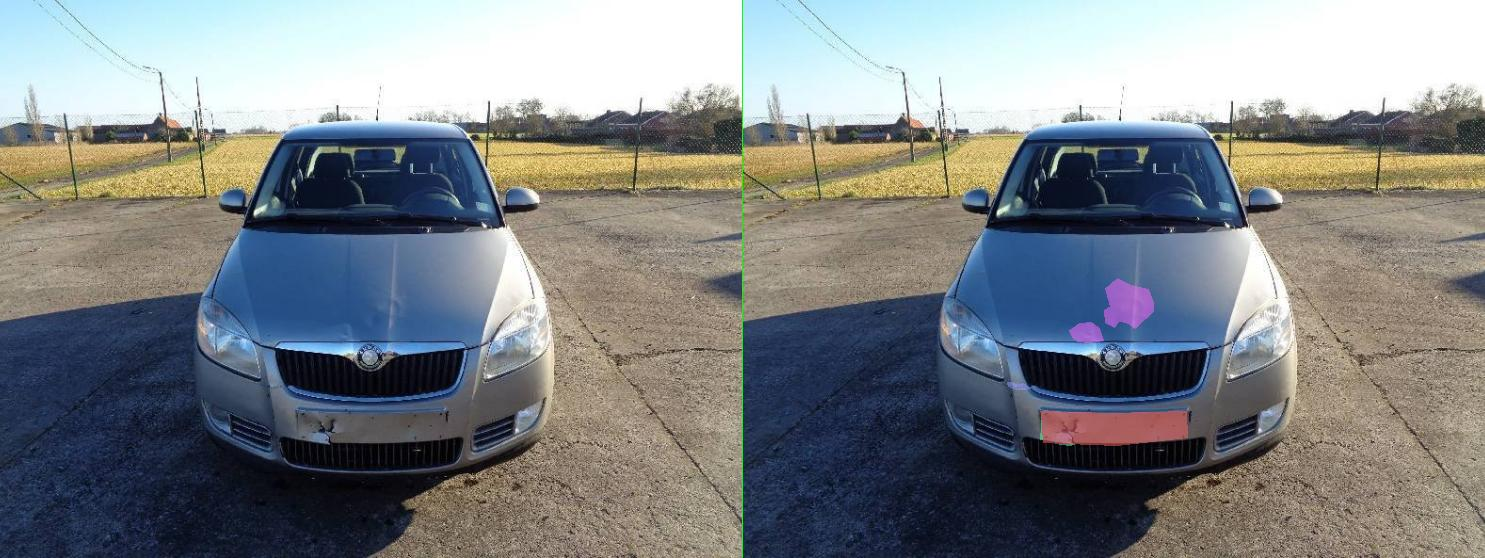Broken part: (594, 412, 722, 445)
Dent: (722, 278, 821, 328), (652, 322, 720, 342)
Missing part: (596, 411, 889, 445)
Scratch: (528, 382, 574, 389)
